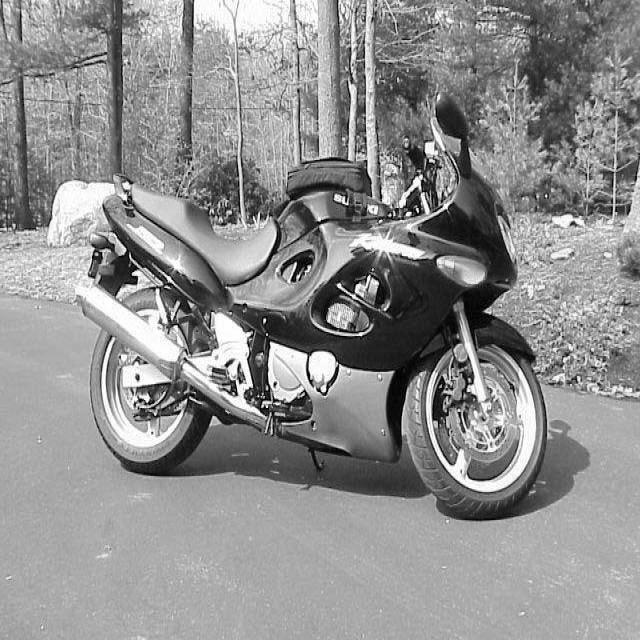Motorcycle: (76, 95, 548, 520)
